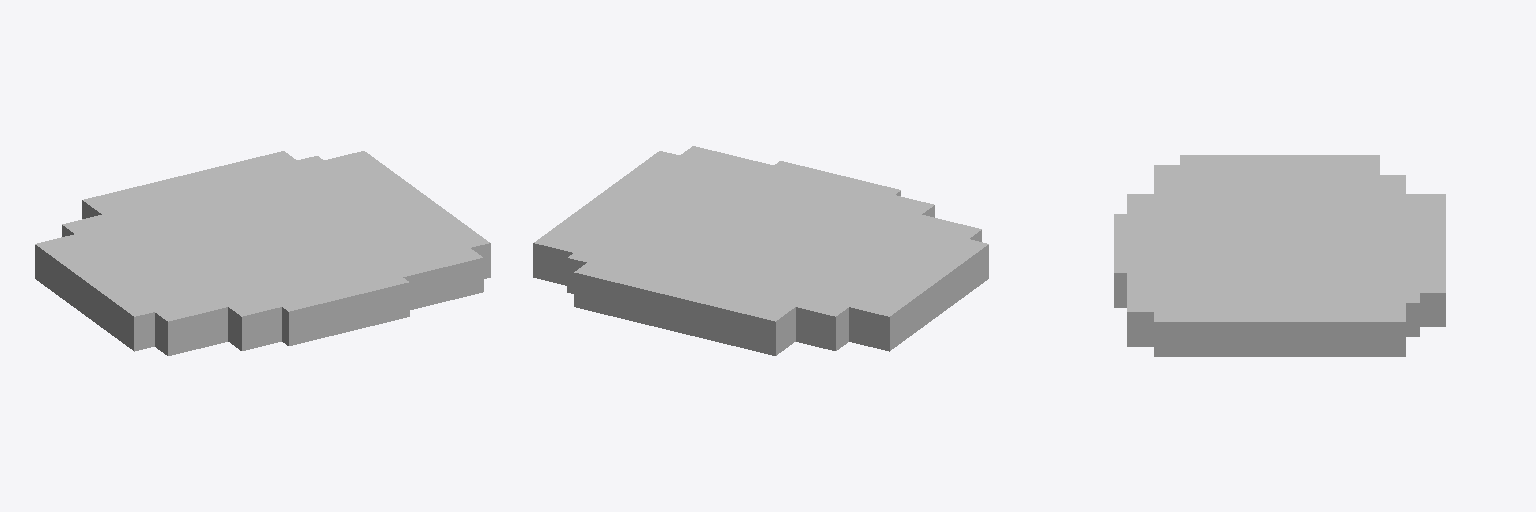
File: cake.obj
3 renders of one model, left to right at view 1: azimuth 30°, elevation 25°; view 2: azimuth 150°, elevation 25°; view 3: azimuth 270°, elevation 25°, orthographic.
Parts seen in each view (by area): view 1: cake-mtl; view 2: cake-mtl; view 3: cake-mtl.
Boxes of the visible parts, box(x1,y1,x2,y2) form: cake-mtl: box(35, 151, 490, 355); cake-mtl: box(533, 146, 988, 355); cake-mtl: box(1114, 155, 1445, 356).
Bounding box in the file's own units: 0.9305 × 0.09 × 0.7812.